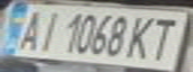0: (75, 10, 96, 55)
1: (57, 9, 84, 54)
6: (90, 10, 115, 56)
8: (106, 11, 133, 58)
A: (9, 7, 48, 52)
I: (30, 7, 63, 53)
K: (124, 12, 163, 61)
T: (142, 14, 190, 62)
